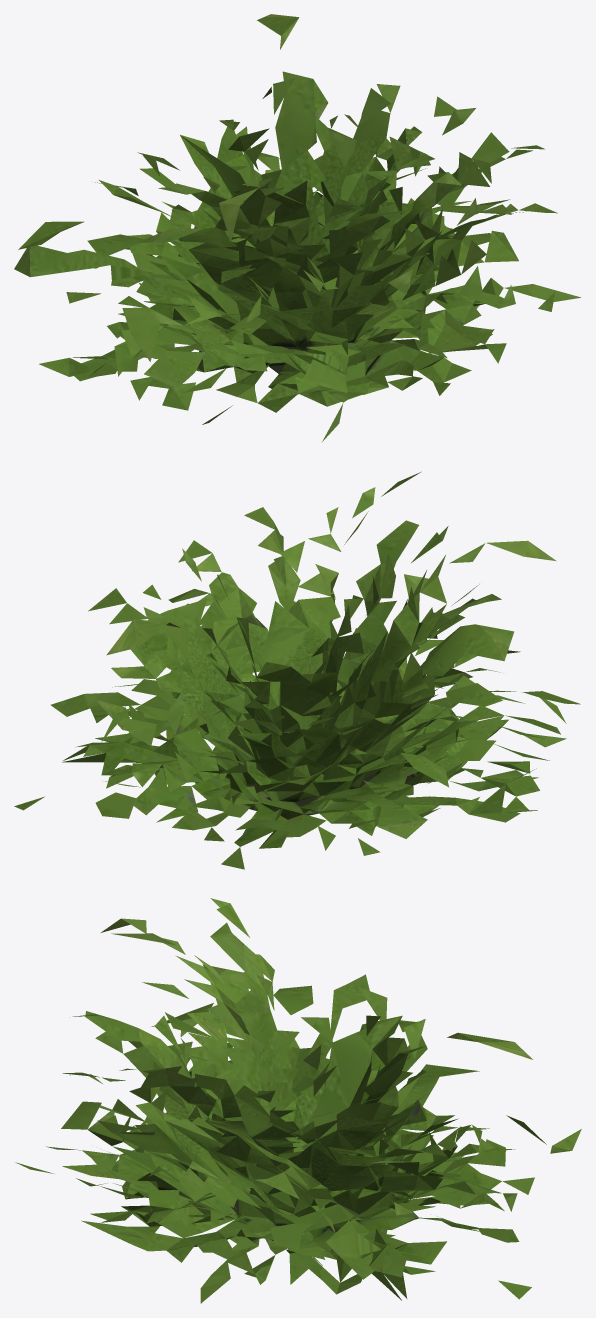
Rendered from scene_fern.glb.
3 views of the same model, one above another, from view 1: azimuth 30°, elevation 25°; view 2: azimuth 150°, elevation 25°; view 3: azimuth 270°, elevation 25° (orthographic). The views are drawn at different scales.
Bounding box in the file's own units: 1.71 × 0.8868 × 1.74.
Materials: 1 (1 with a texture image).
